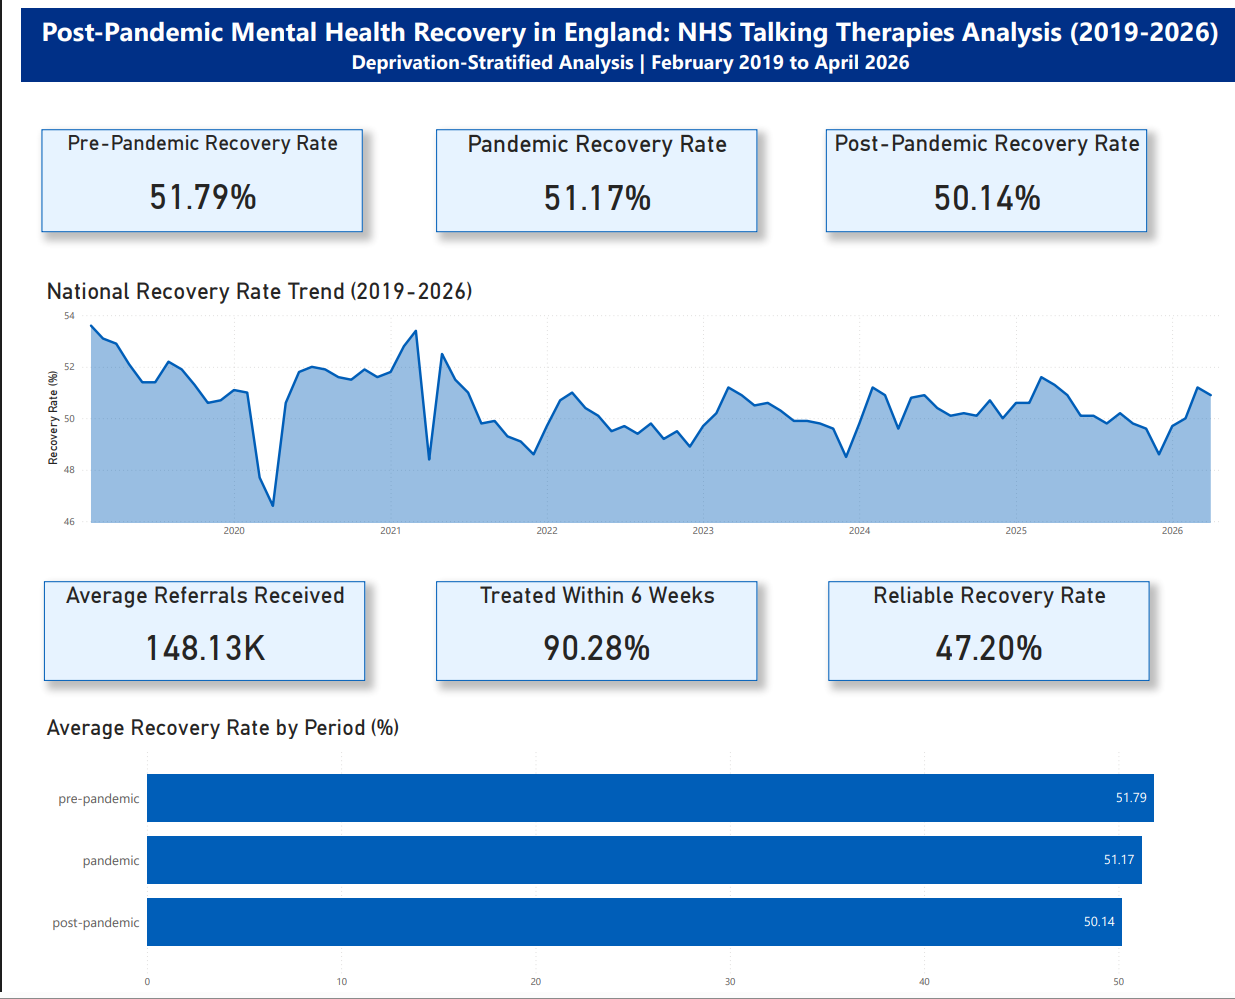

The page's visual inventory and layout, read from the dashboard file:
{"tool":"powerbi","page":{"name":"Executive Overview","canvas":[1500,1215],"ordinal":1},"visuals":[{"type":"card","title":"Pre-Pandemic Recovery Rate","fields":{"Values":["ccg_recovery.Recovery Rate Display"]},"box":[25.2,147.9,393,125.8],"z":0},{"type":"card","title":"Pandemic Recovery Rate","fields":{"Values":["ccg_recovery.Recovery Rate Display"]},"box":[508.1,147.9,393,125.8],"z":1000},{"type":"textbox","box":[0,0,1500,90.1],"z":2000},{"type":"card","title":"Post-Pandemic Recovery Rate","fields":{"Values":["ccg_recovery.Recovery Rate Display"]},"box":[984.7,147.9,393,125.8],"z":3000},{"type":"lineChart","title":"National Recovery Rate Trend (2019-2026)","fields":{"Category":["national_trends.period_start"],"Y":["Avg(national_trends.measure_value)"]},"box":[26.4,330.3,1447.2,327.2],"z":4000},{"type":"card","title":"Average Referrals Received","fields":{"Values":["Avg(period_kpis.avg_value)"]},"box":[28.3,701.6,393,122.7],"z":5000},{"type":"card","title":"Treated Within 6 Weeks","fields":{"Values":["ccg_recovery.Recovery Rate Display"]},"box":[508.1,701.6,393,122.7],"z":6000},{"type":"card","title":"Reliable Recovery Rate","fields":{"Values":["ccg_recovery.Recovery Rate Display"]},"box":[987.9,701.6,393,122.7],"z":7000},{"type":"clusteredBarChart","title":"Average Recovery Rate by Period (%)","fields":{"Y":["Avg(period_kpis.avg_value)"],"Category":["period_kpis.analytical_period"]},"box":[26.4,865.2,1447.2,346.1],"z":8000}]}

Visuals, with their boxes in screenshot pixels (x1, y1, x2, y2), scaled from the page's 1500x1215 canvas onto the 1235x999 screenshot:
"Pre-Pandemic Recovery Rate" card: left=21, top=122, right=344, bottom=225
"Pandemic Recovery Rate" card: left=418, top=122, right=742, bottom=225
textbox: left=0, top=0, right=1234, bottom=74
"Post-Pandemic Recovery Rate" card: left=811, top=122, right=1134, bottom=225
"National Recovery Rate Trend (2019-2026)" lineChart: left=22, top=272, right=1213, bottom=541
"Average Referrals Received" card: left=23, top=577, right=347, bottom=678
"Treated Within 6 Weeks" card: left=418, top=577, right=742, bottom=678
"Reliable Recovery Rate" card: left=813, top=577, right=1137, bottom=678
"Average Recovery Rate by Period (%)" clusteredBarChart: left=22, top=711, right=1213, bottom=996
